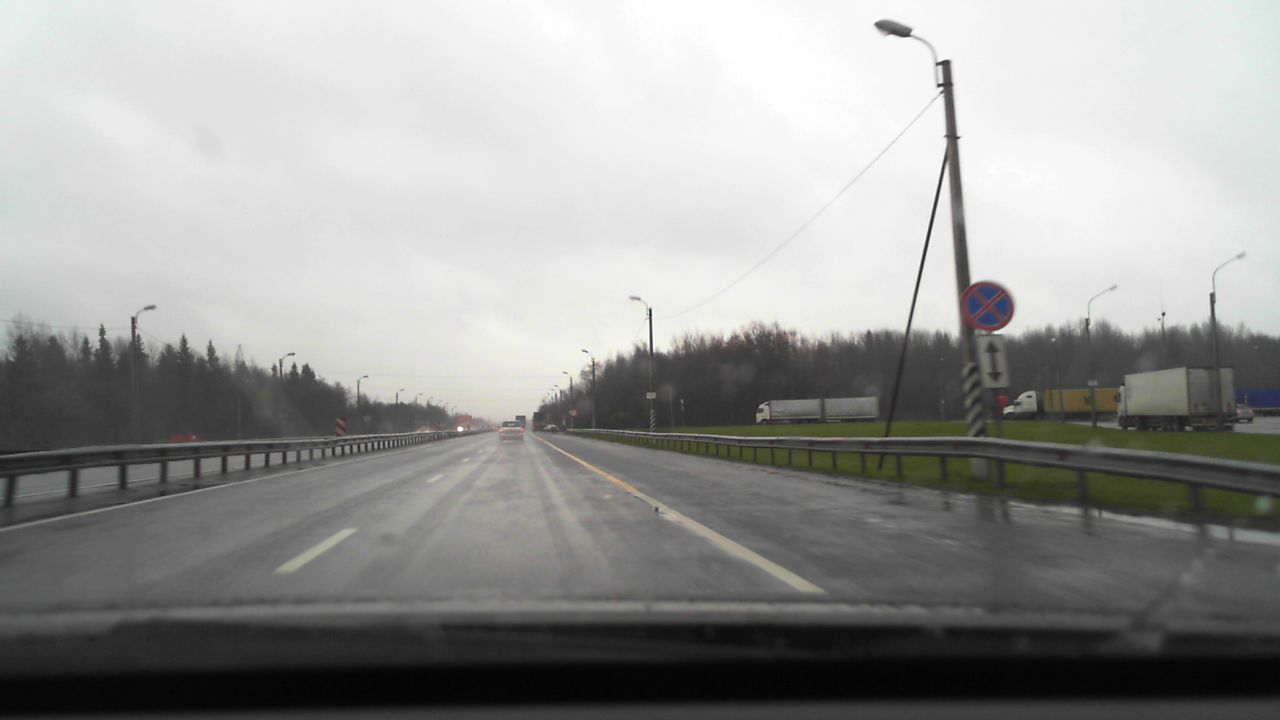No Parking: (961, 281, 1015, 330)
